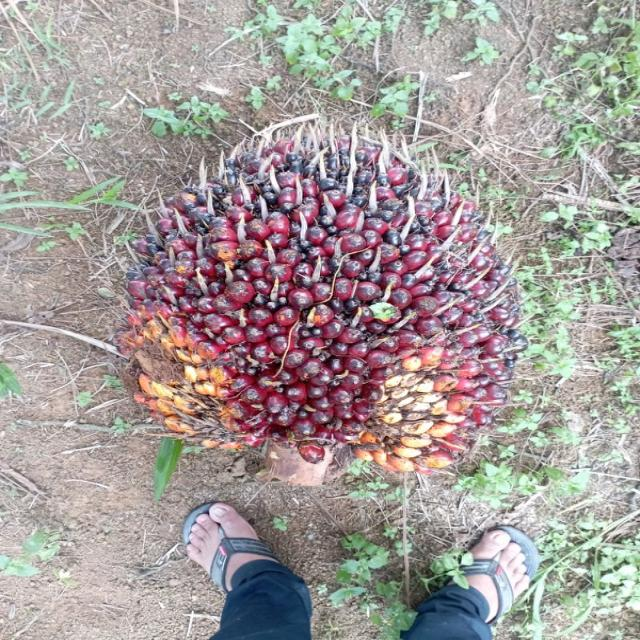fraksi 1: (99, 124, 533, 485)
